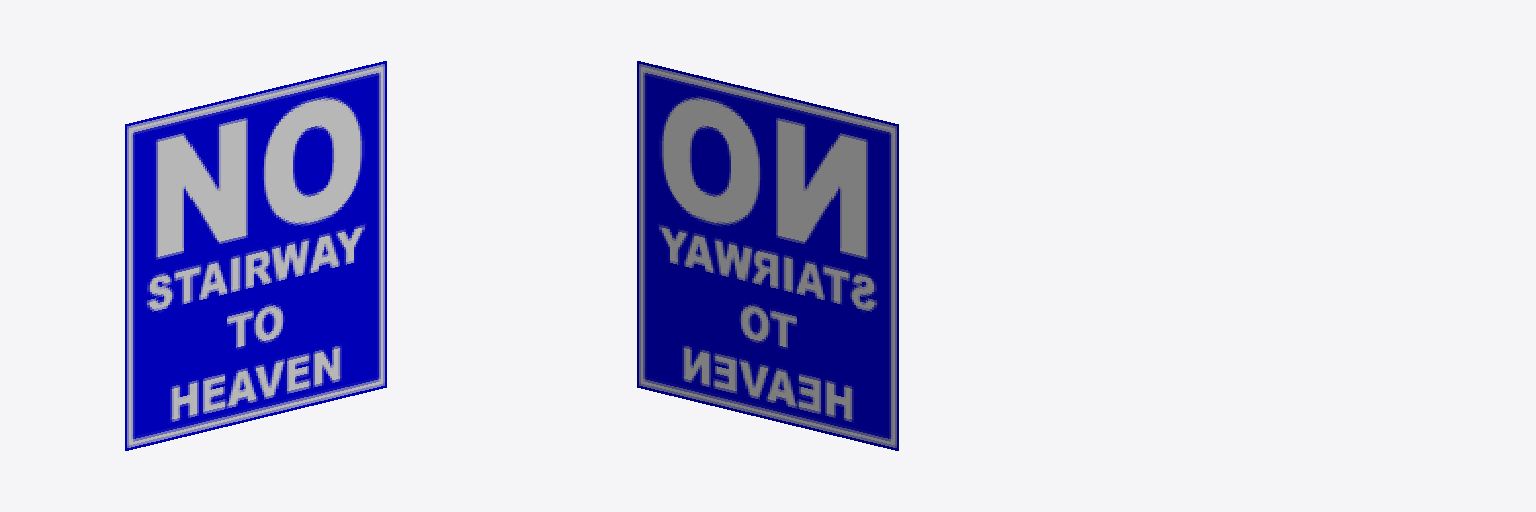
3 views of the same model, side by side, from view 1: azimuth 30°, elevation 25°; view 2: azimuth 150°, elevation 25°; view 3: azimuth 270°, elevation 25° (orthographic).
Visible parts, largest first — view 1: Box02; view 2: Box02; view 3: none.
Boxes of the visible parts, box(x1,y1,x2,y2) form: Box02: box(125, 61, 386, 450); Box02: box(637, 61, 898, 450).
Bounding box in the file's own units: 6.24 × 7.44 × 0.
Materials: 1 (1 with a texture image).